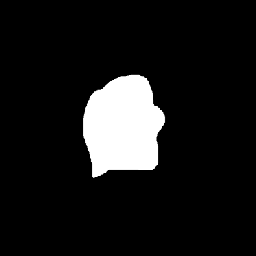mass: (87, 76, 161, 178)
